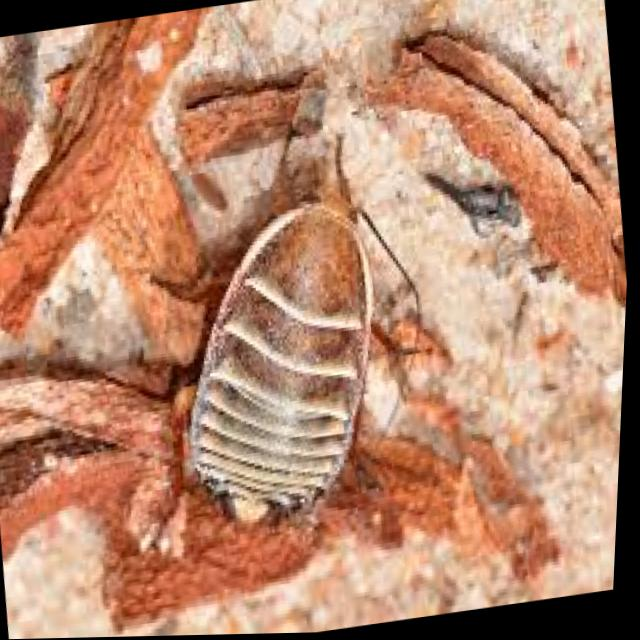Cockroach: (128, 95, 491, 600)
